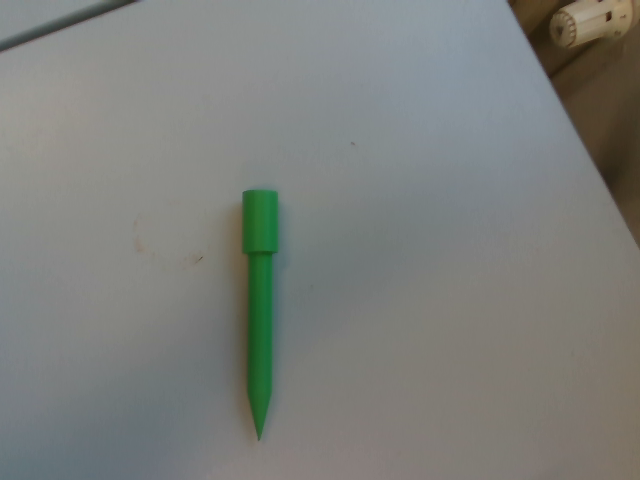Probe: (237, 178, 283, 449)
